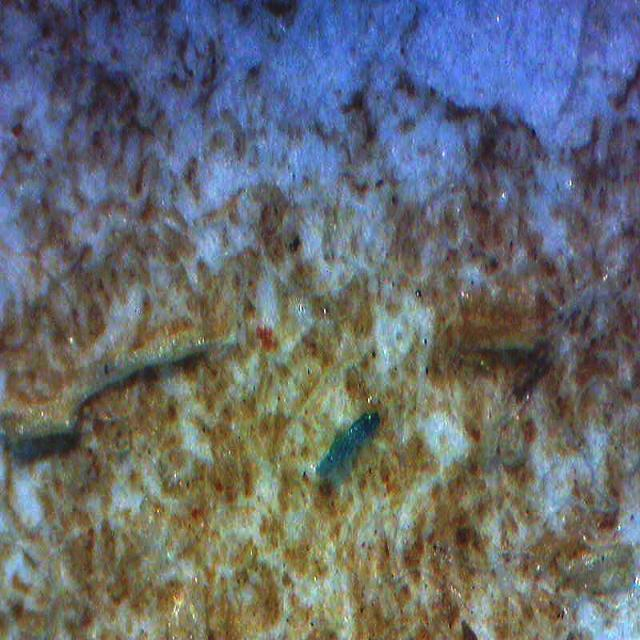microplastic: (316, 413, 380, 476)
